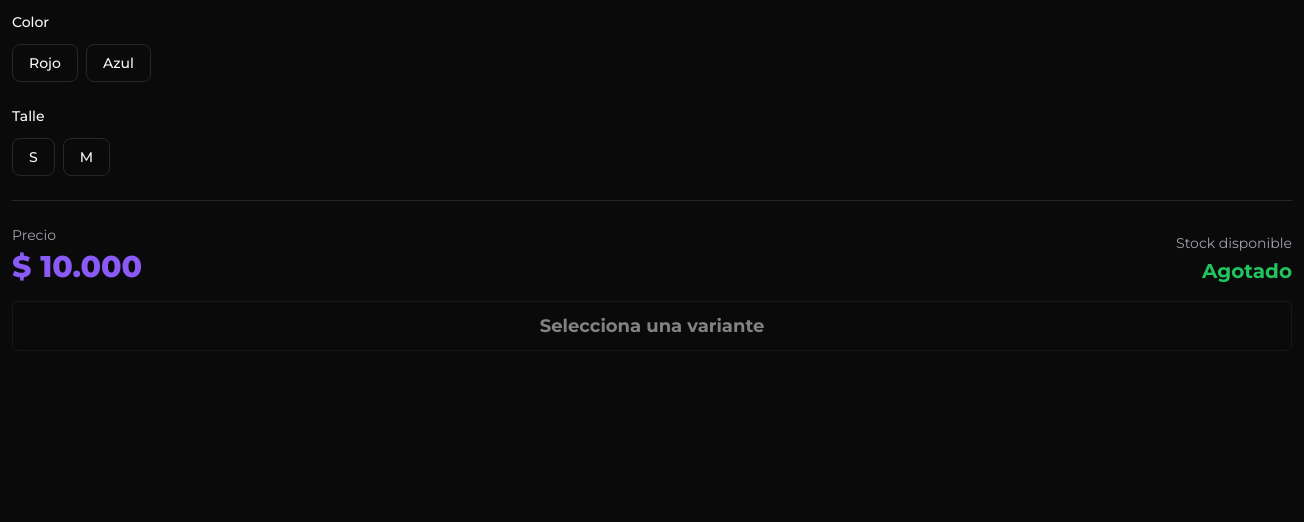
Test case: ProductVariantSelector › add to cart › should show error when addItem fails
The image size is (1304, 522).
Click the button "Rojo" at (45, 63), box [12,44,78,82]
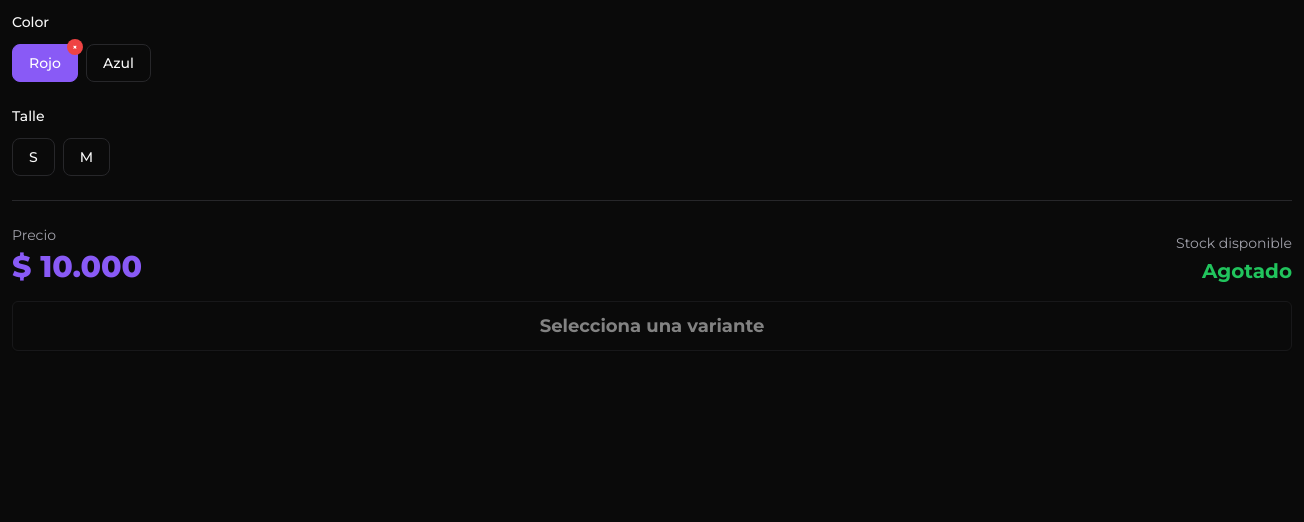
Click the button "S" at (33, 157), box [12,138,55,176]
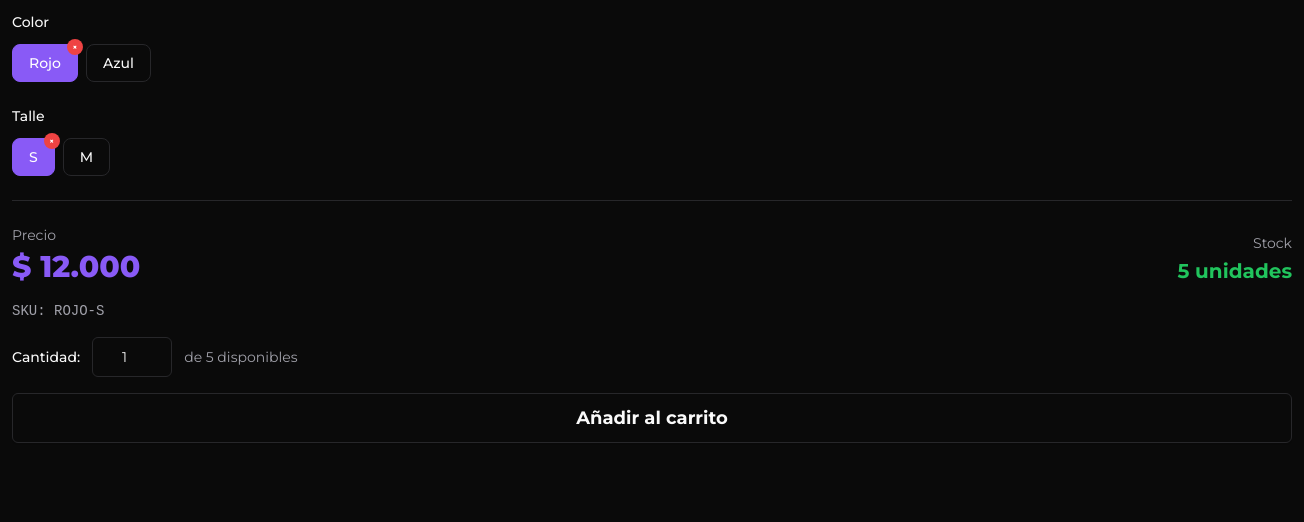
Click the button "Añadir al carrito" at (652, 418), box [12,393,1292,443]
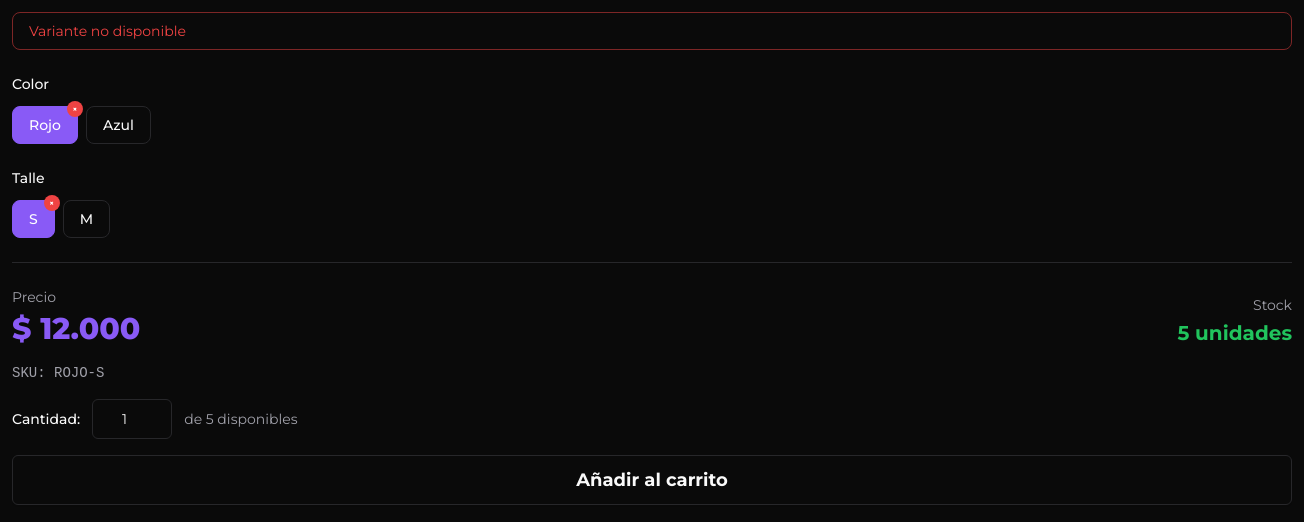
Check: the text "Variante no disponible" is shown, box [29,22,186,40]
